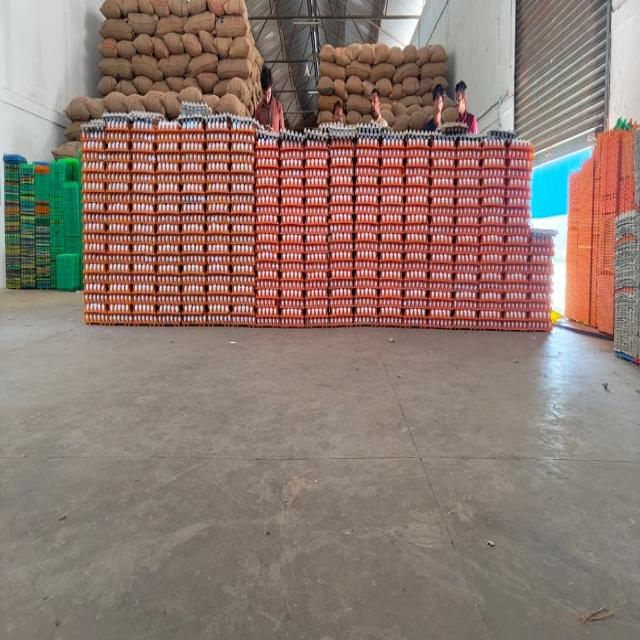egg_tray: (428, 137, 474, 328), (427, 137, 456, 328), (379, 204, 425, 324), (453, 138, 482, 327), (106, 115, 132, 323), (378, 131, 406, 324), (230, 118, 256, 324), (478, 138, 506, 329), (379, 215, 428, 324), (156, 121, 182, 324), (82, 121, 108, 323), (206, 116, 231, 324), (500, 231, 552, 330), (181, 118, 206, 323), (230, 120, 255, 323), (404, 132, 430, 326), (132, 114, 156, 324), (328, 130, 354, 323), (480, 138, 506, 328), (354, 127, 379, 324), (304, 131, 328, 326), (280, 132, 304, 326), (330, 131, 354, 324), (256, 130, 279, 326), (256, 130, 279, 318), (502, 186, 530, 330), (502, 196, 530, 328), (428, 196, 455, 328), (378, 195, 406, 322), (502, 205, 530, 330), (453, 205, 480, 327), (455, 138, 481, 264), (478, 207, 504, 328), (428, 207, 454, 328), (157, 194, 181, 324), (182, 194, 206, 324), (478, 209, 504, 328), (206, 202, 231, 323), (4, 156, 26, 288), (478, 217, 504, 328), (107, 213, 133, 323), (132, 211, 157, 324), (505, 140, 532, 243), (304, 213, 329, 324), (280, 212, 304, 326), (305, 211, 328, 326), (481, 139, 506, 244), (231, 216, 255, 324), (528, 232, 554, 330), (83, 222, 108, 323), (305, 131, 329, 232), (354, 126, 380, 218), (354, 225, 378, 324), (131, 120, 156, 214), (156, 188, 182, 277), (156, 196, 182, 282), (502, 245, 528, 330), (82, 121, 106, 213), (205, 117, 230, 204), (81, 115, 130, 159), (156, 121, 182, 202), (406, 132, 431, 214), (330, 140, 354, 225), (181, 119, 206, 200), (354, 239, 378, 323), (20, 164, 36, 288), (379, 183, 405, 259), (305, 134, 329, 216), (280, 244, 304, 326), (106, 120, 132, 195), (255, 131, 280, 207), (131, 119, 156, 194), (378, 250, 403, 324), (305, 250, 330, 324), (156, 121, 182, 192), (454, 253, 478, 328), (280, 134, 304, 209), (304, 205, 329, 276), (456, 138, 482, 206), (82, 120, 106, 192), (305, 140, 329, 212), (83, 193, 108, 262), (481, 138, 506, 206), (354, 138, 380, 203), (256, 253, 279, 326), (478, 206, 504, 270), (256, 254, 279, 326), (84, 254, 108, 322), (132, 255, 156, 323), (453, 255, 478, 319), (156, 193, 182, 254), (256, 258, 279, 326), (305, 258, 328, 326), (503, 267, 528, 329), (503, 269, 528, 329), (132, 193, 156, 255), (430, 150, 456, 205), (430, 169, 456, 224), (305, 131, 328, 193), (330, 260, 352, 324), (380, 131, 406, 185), (452, 273, 478, 327), (405, 196, 430, 252), (378, 268, 402, 326), (85, 263, 108, 323), (84, 262, 107, 322), (230, 119, 256, 172), (428, 269, 452, 326), (230, 119, 256, 171), (380, 135, 405, 189), (381, 137, 404, 195), (330, 266, 352, 326), (354, 270, 378, 324), (478, 279, 504, 327), (330, 138, 354, 190), (156, 275, 182, 323), (182, 275, 207, 324), (81, 120, 105, 171), (328, 130, 356, 173), (207, 274, 231, 324), (108, 273, 132, 322), (205, 174, 230, 221), (452, 281, 477, 327), (527, 285, 552, 331), (504, 227, 528, 274), (505, 204, 530, 248), (506, 139, 532, 181), (530, 230, 554, 275), (527, 287, 551, 331), (404, 131, 432, 167), (481, 167, 506, 207), (381, 131, 404, 174), (432, 137, 456, 177), (255, 129, 280, 167), (281, 134, 304, 175), (204, 115, 230, 150), (104, 113, 130, 148), (481, 135, 508, 168), (355, 124, 382, 157), (156, 120, 182, 151), (128, 111, 164, 131), (321, 126, 356, 146), (178, 103, 212, 120), (435, 121, 468, 138), (50, 207, 63, 246), (487, 130, 515, 143), (413, 305, 424, 324), (51, 253, 56, 286), (458, 236, 477, 242), (343, 268, 348, 287), (507, 160, 511, 183), (307, 234, 320, 241), (360, 232, 376, 237), (166, 308, 177, 313), (458, 301, 468, 306), (344, 222, 348, 233), (535, 278, 546, 282), (456, 243, 463, 249), (85, 258, 92, 263), (432, 196, 438, 201), (498, 237, 503, 243), (334, 281, 339, 287), (492, 209, 500, 212), (432, 185, 435, 193), (409, 303, 420, 305), (461, 266, 468, 269), (392, 180, 397, 184), (336, 213, 342, 216), (336, 271, 338, 279), (348, 318, 352, 322), (164, 182, 169, 185), (215, 147, 222, 149), (166, 290, 179, 291), (126, 200, 130, 203), (394, 269, 396, 275), (452, 190, 454, 196), (414, 322, 419, 324), (464, 326, 474, 327), (250, 180, 253, 183), (52, 242, 55, 245), (468, 246, 476, 247), (194, 198, 198, 200), (422, 306, 424, 310), (516, 239, 518, 243), (307, 132, 311, 134), (413, 220, 420, 221), (374, 211, 376, 214), (411, 220, 413, 223), (232, 189, 234, 192), (158, 265, 160, 268), (176, 302, 178, 304), (488, 216, 490, 218), (452, 150, 454, 152), (258, 322, 262, 323), (410, 213, 414, 214), (457, 228, 459, 230), (312, 221, 314, 223), (364, 152, 366, 154), (523, 160, 526, 161), (167, 301, 170, 302), (415, 313, 416, 316), (307, 228, 308, 230), (490, 268, 492, 269), (410, 256, 411, 258), (440, 169, 442, 170), (339, 182, 341, 183), (483, 210, 485, 210), (154, 139, 154, 141), (83, 220, 85, 220), (74, 186, 74, 187), (345, 265, 345, 266), (306, 248, 306, 250), (134, 223, 134, 225), (52, 168, 52, 169), (208, 218, 208, 222)
